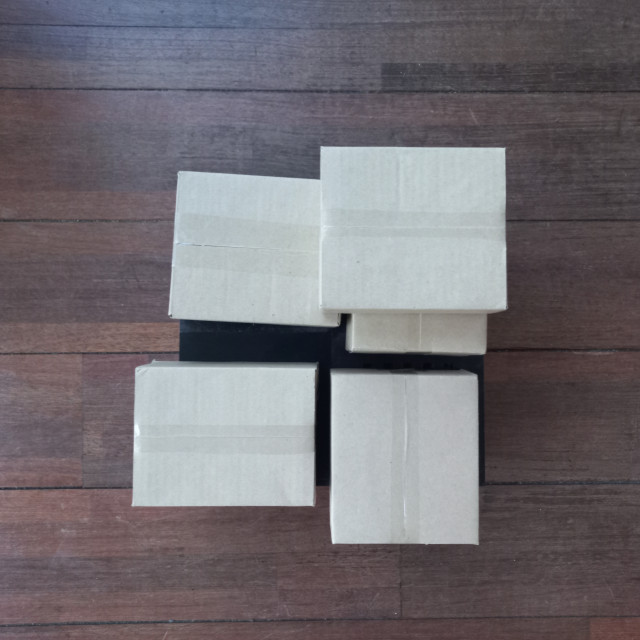box: (317, 144, 509, 315), (129, 363, 320, 509), (167, 168, 336, 329), (330, 369, 481, 547)
